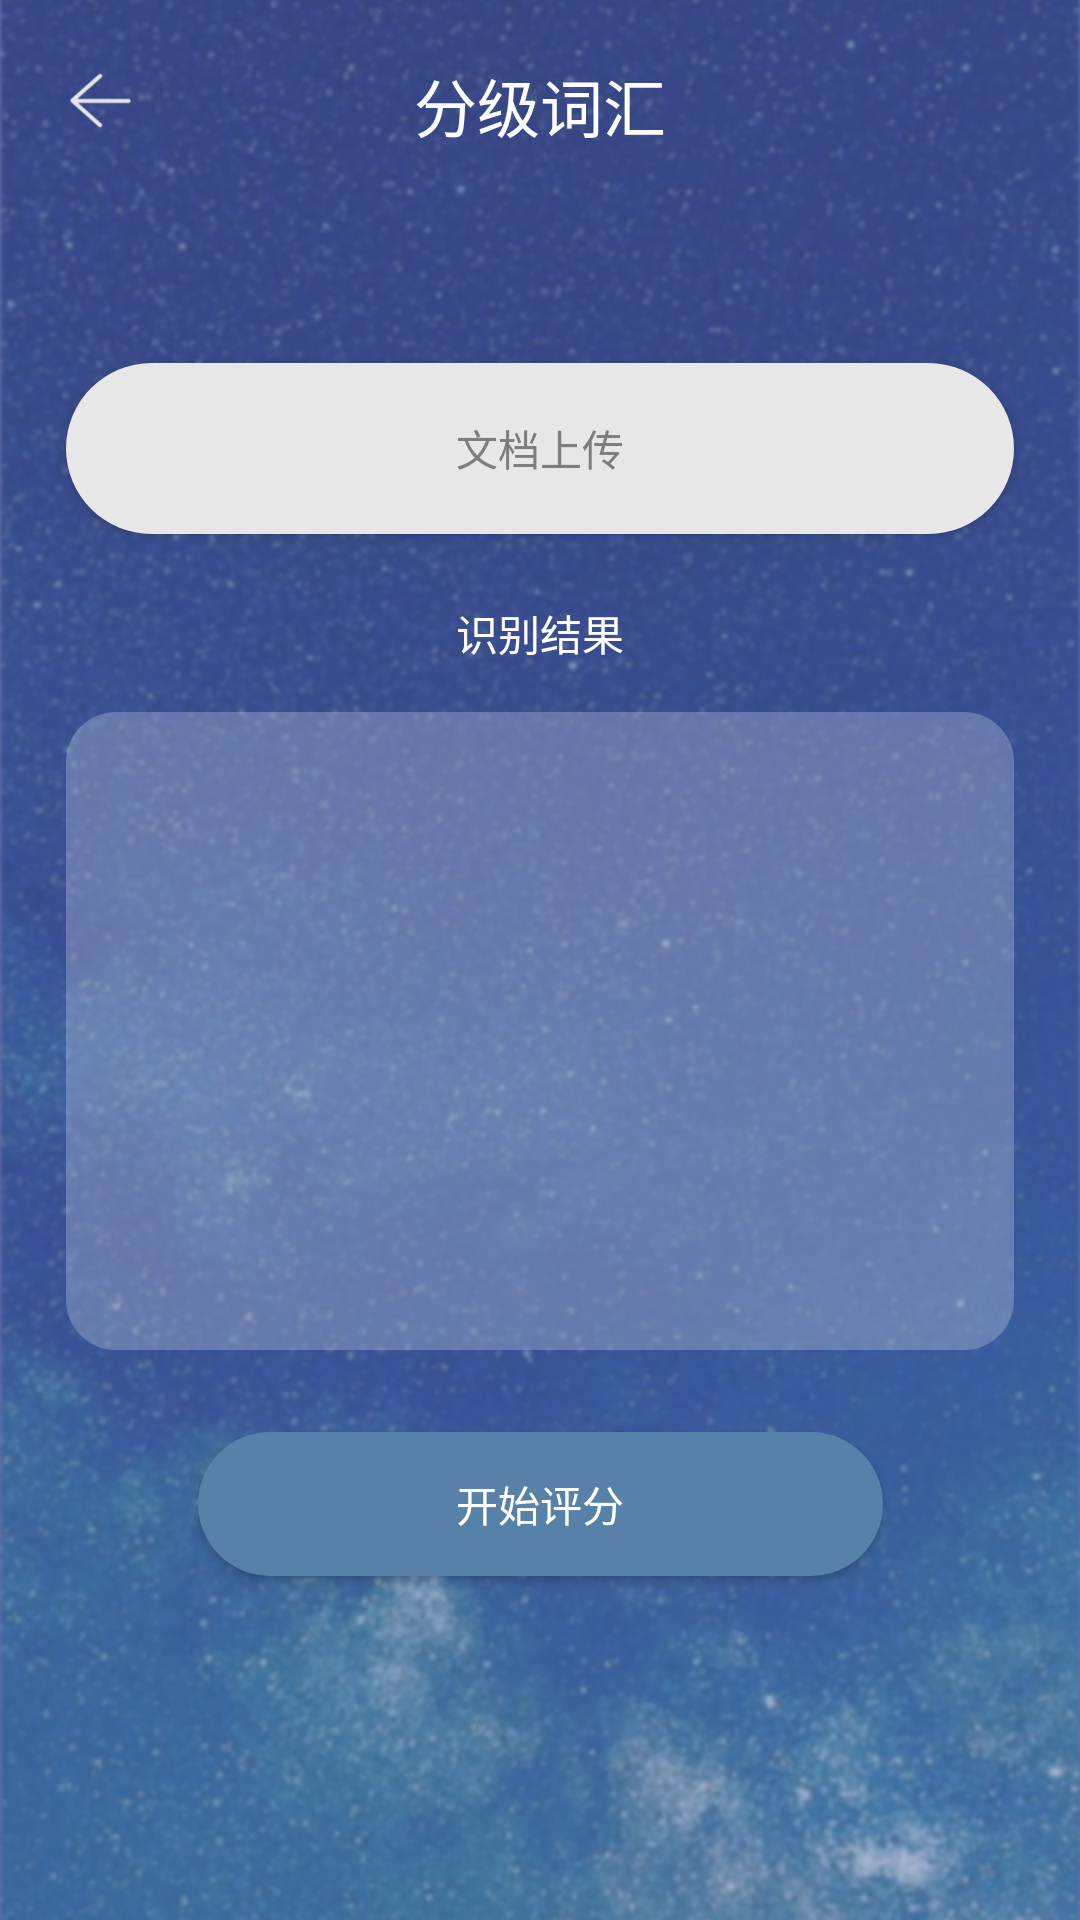

Where to tap for icons on this 1080×1920 app screen, as (x,y):
back: (100,100)
